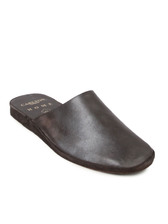shoes: (1, 87, 158, 172)
